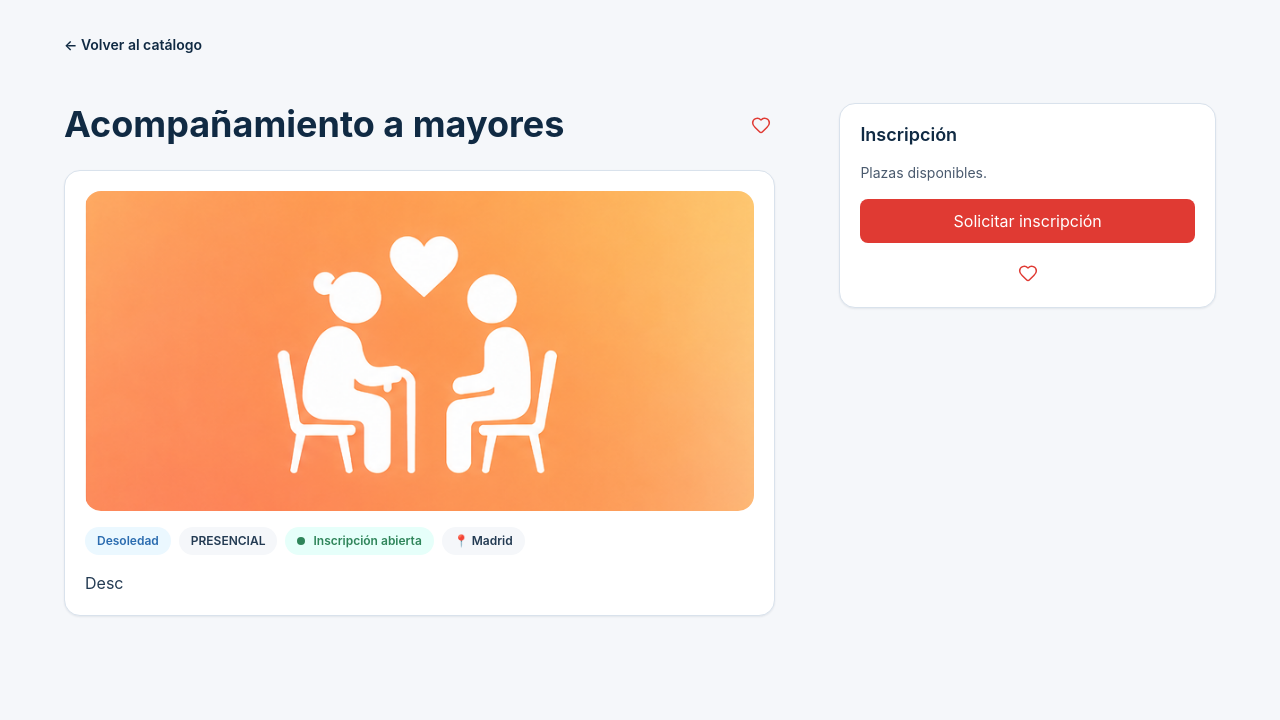
Test case: Registrations sync #43 - tarjeta y ficha sin recargar › aplica RegistrationResponse 201 WAITLISTED y sincroniza tarjeta y ficha
expect the heading "Acompañamiento a mayores" is shown: met, box [64,103,564,146]
expect the text "Ya estás apuntado" is not shown: met
Click the button with test id "open-registration-modal" at [1028, 221], box [860,199,1195,243]
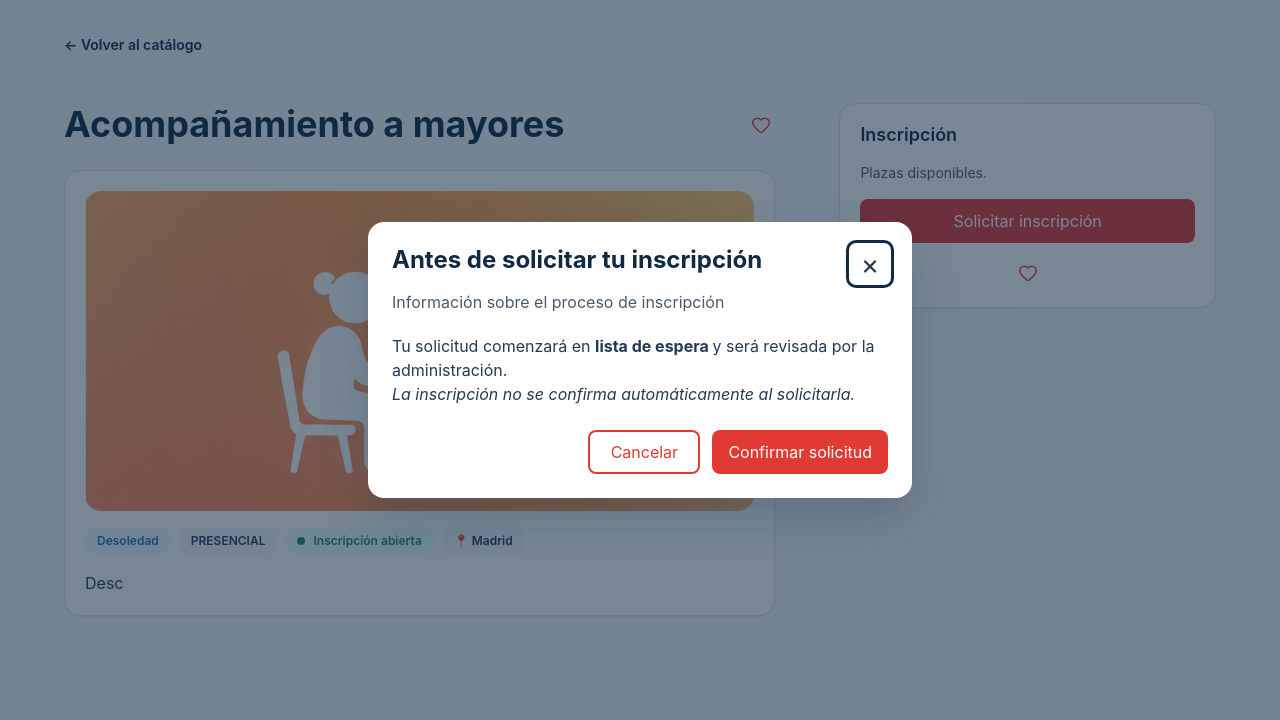
expect the dialog is shown: met, box [368,222,912,498]
Click the button with test id "confirm-registration" at [800, 452], box [712,430,888,474]
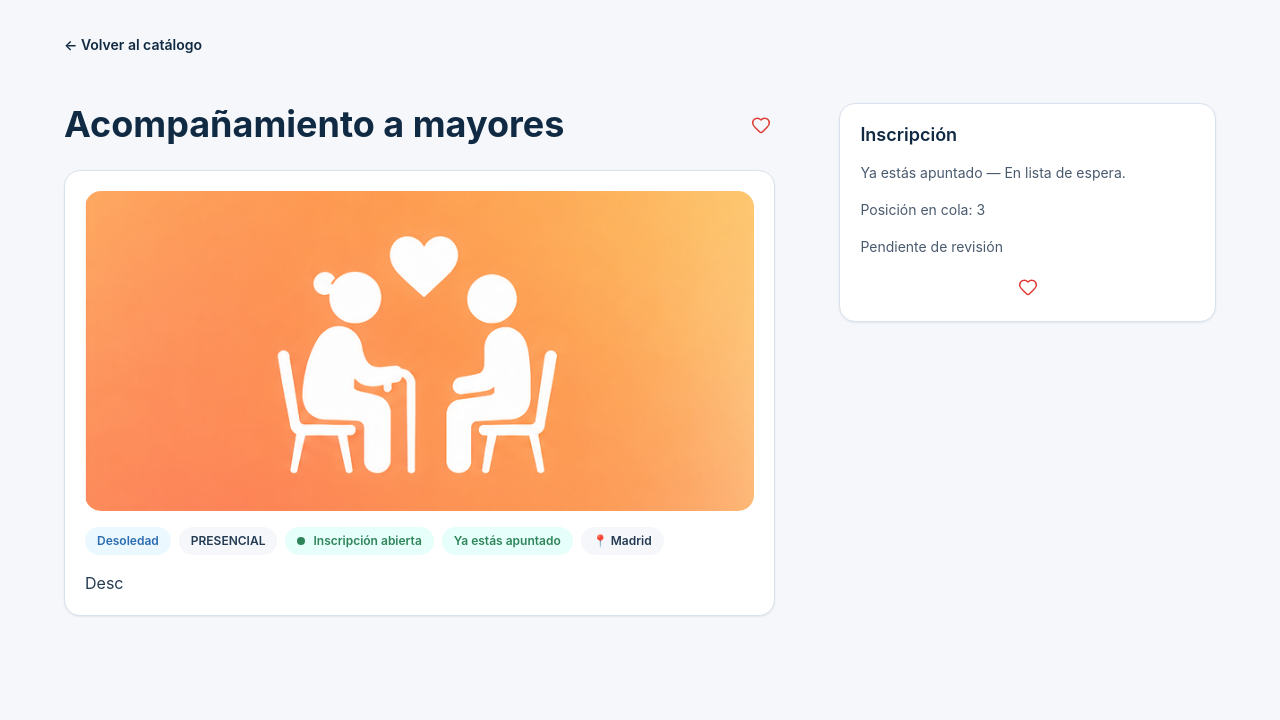
expect the text "Ya estás apuntado — En lista de espera." is shown: met, box [860,164,1126,181]
